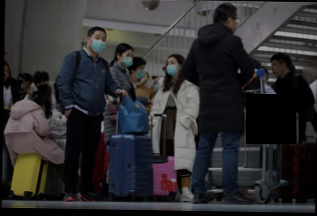with_mask: (89, 32, 107, 52), (164, 59, 179, 75), (120, 50, 134, 66), (134, 63, 146, 79), (35, 78, 49, 91)
without_mask: (269, 60, 282, 75), (231, 15, 240, 31), (4, 65, 10, 82)
